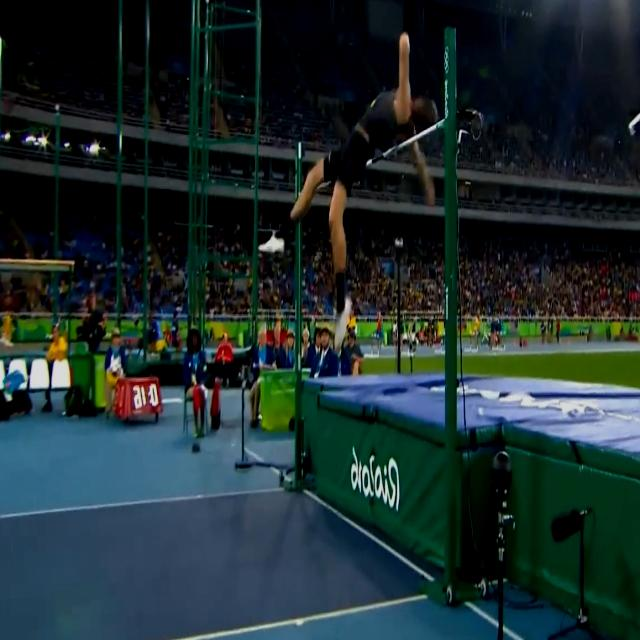jump: (257, 29, 438, 353)
